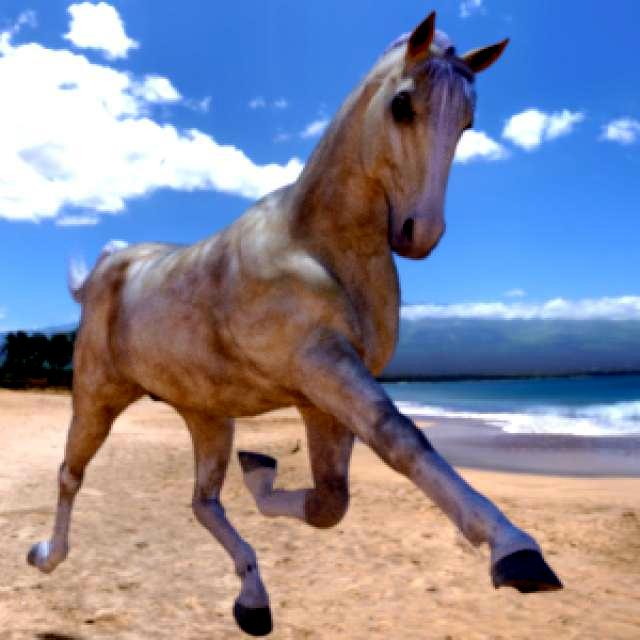horse: (29, 14, 560, 634)
